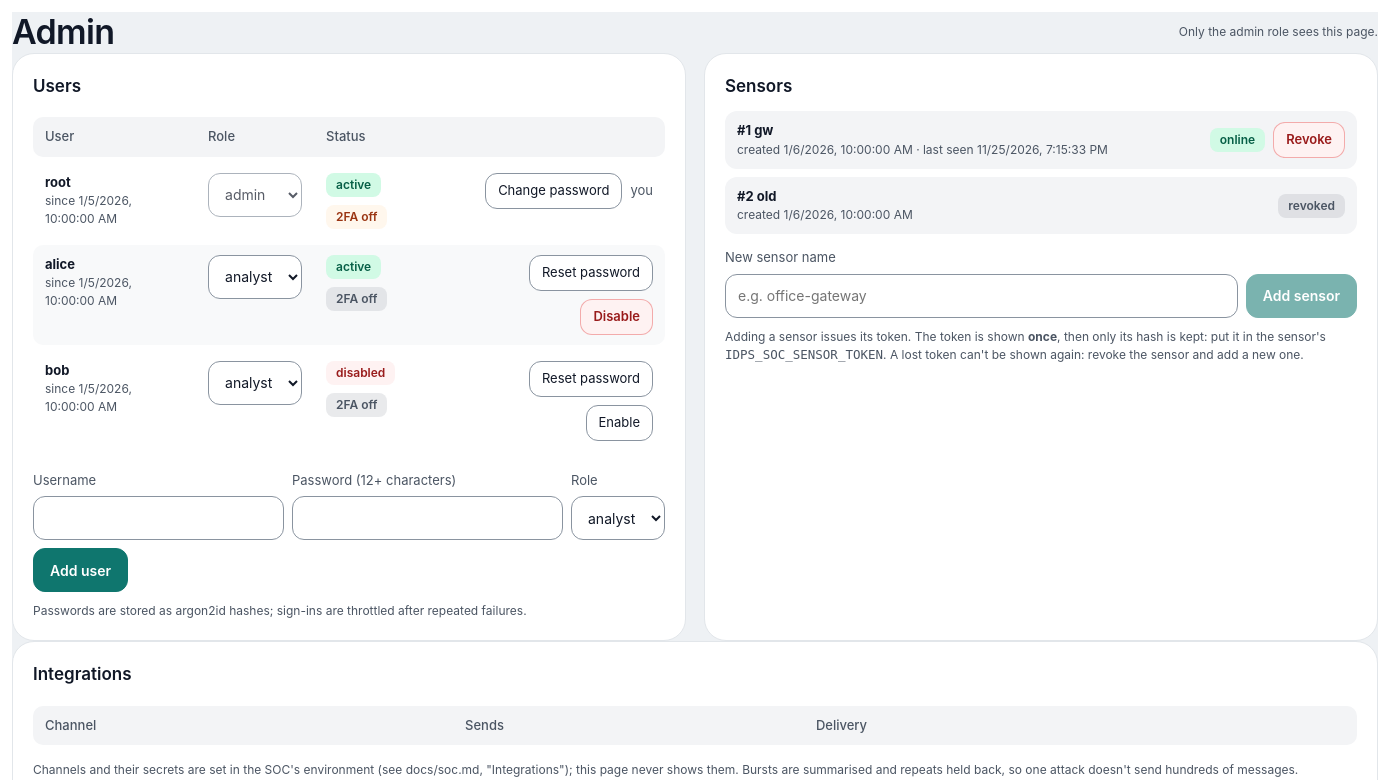
Test: users › role change: cancel sends nothing; confirm PATCHes and shows a notice
Select "admin" in the dropdown named "Role of alice" at (255, 277), box [208,255,302,299]
Select "admin" in the dropdown named "Role of alice" at (255, 277), box [208,255,302,299]
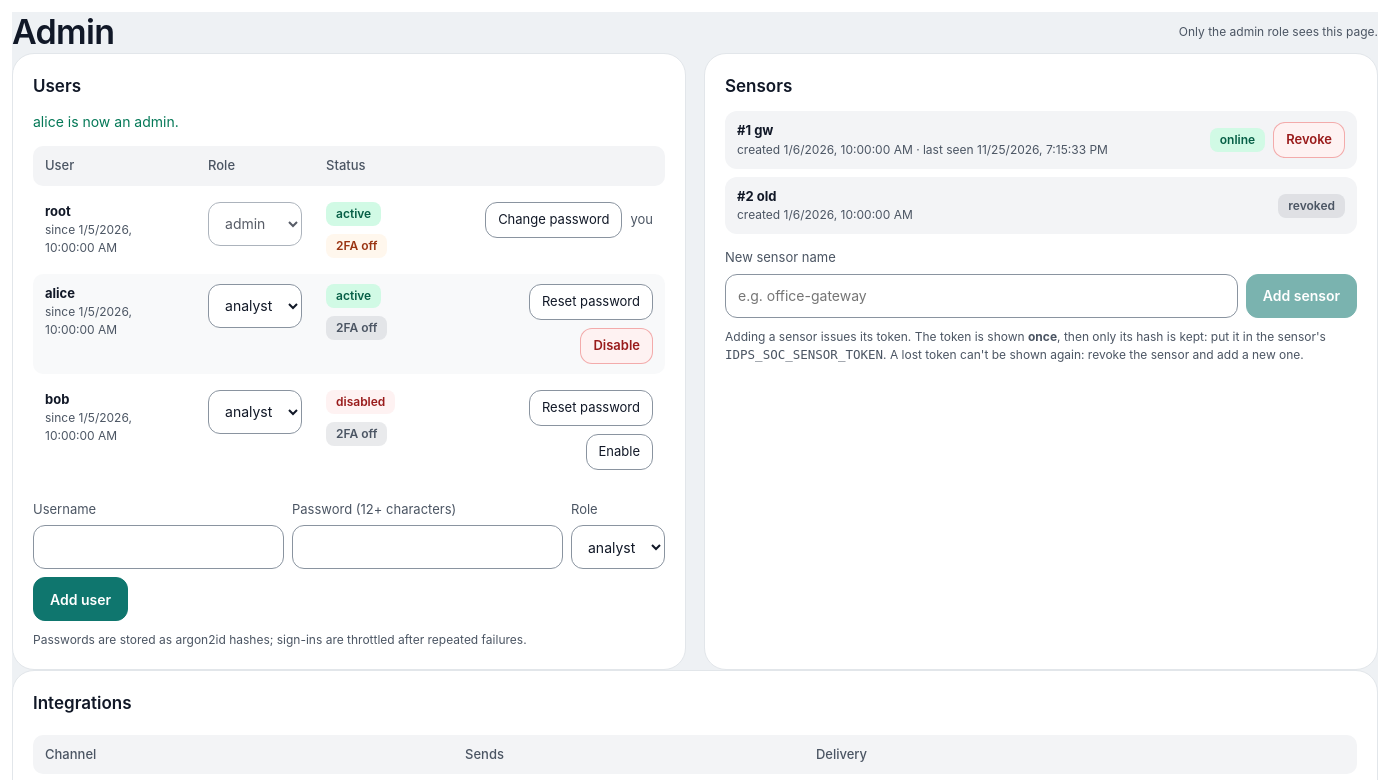
Now the text "alice is now an admin." is shown, box [33,113,179,130]
